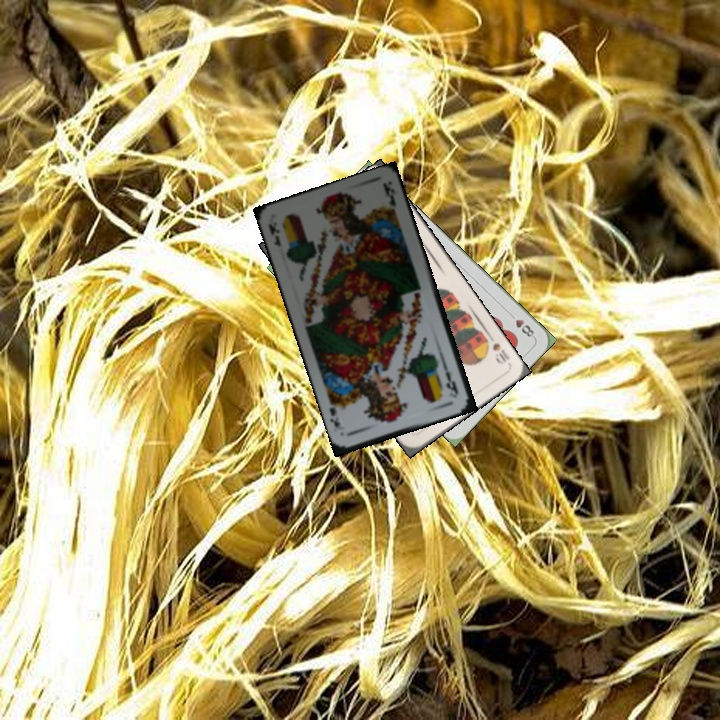EK: (439, 360, 461, 397), (264, 220, 284, 249)
H8: (504, 309, 537, 340)
S10: (480, 334, 513, 367)
